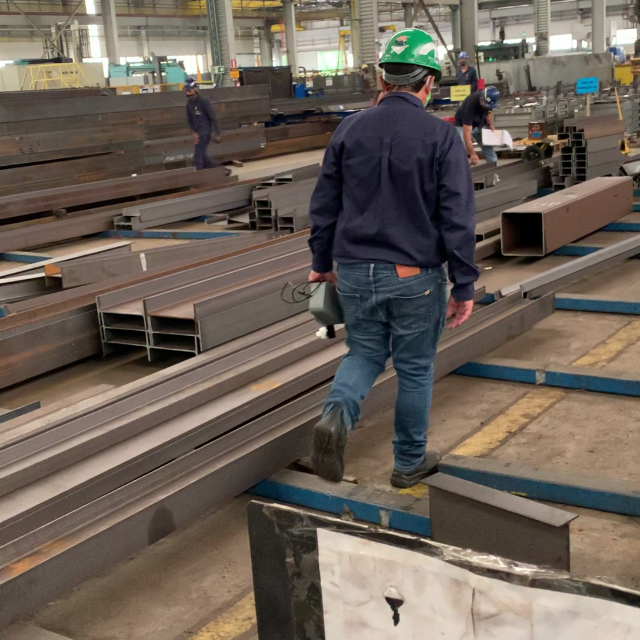helmet: (374, 28, 453, 82)
person: (300, 26, 476, 493)
safety-shoe: (308, 406, 351, 481), (393, 448, 442, 488)
